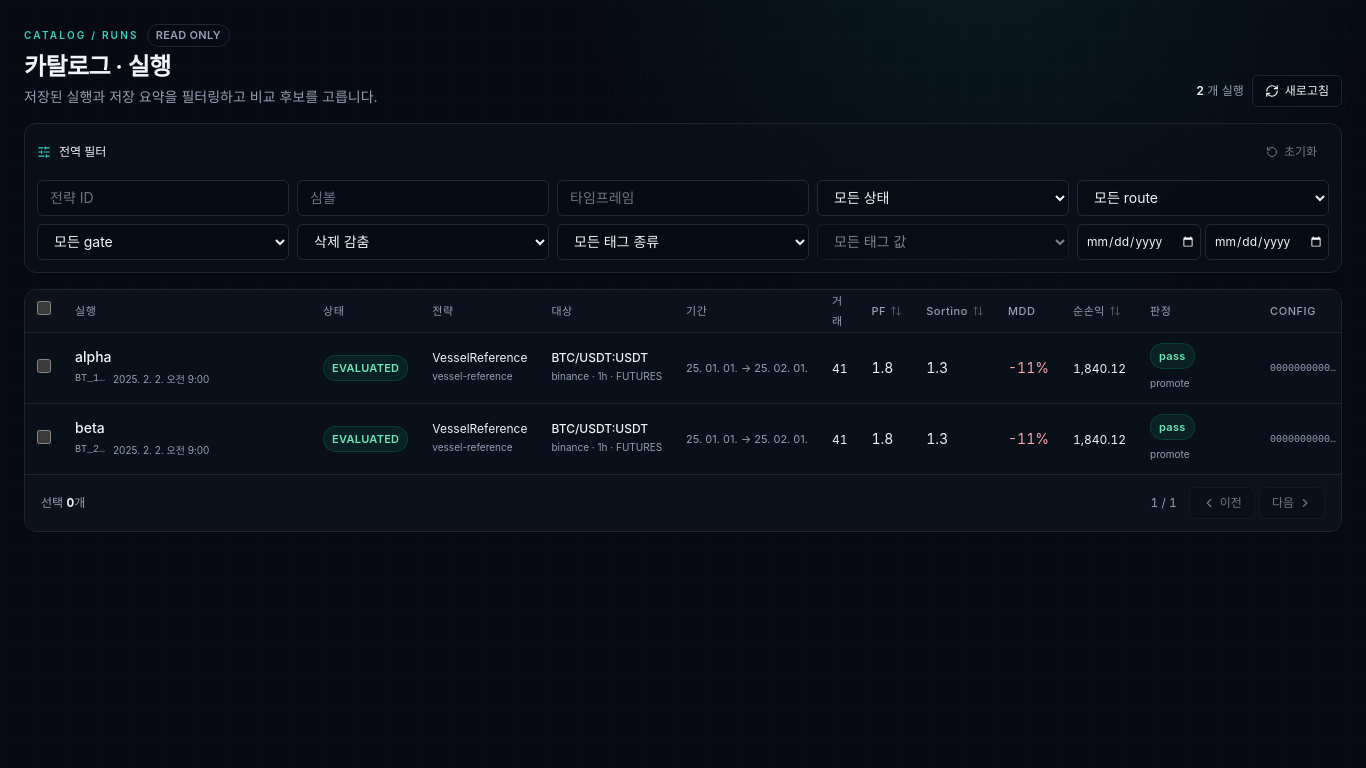
Test: 카탈로그 실행 완전 삭제 › 증거 파일까지 지운다고 알린 뒤 목록에서 영구히 없앤다
Expected: the text "alpha" is shown, [75,346,112,366]
Click the checkbox named "alpha 선택". click: coordinates (44, 366)
box: [37,358,51,372]
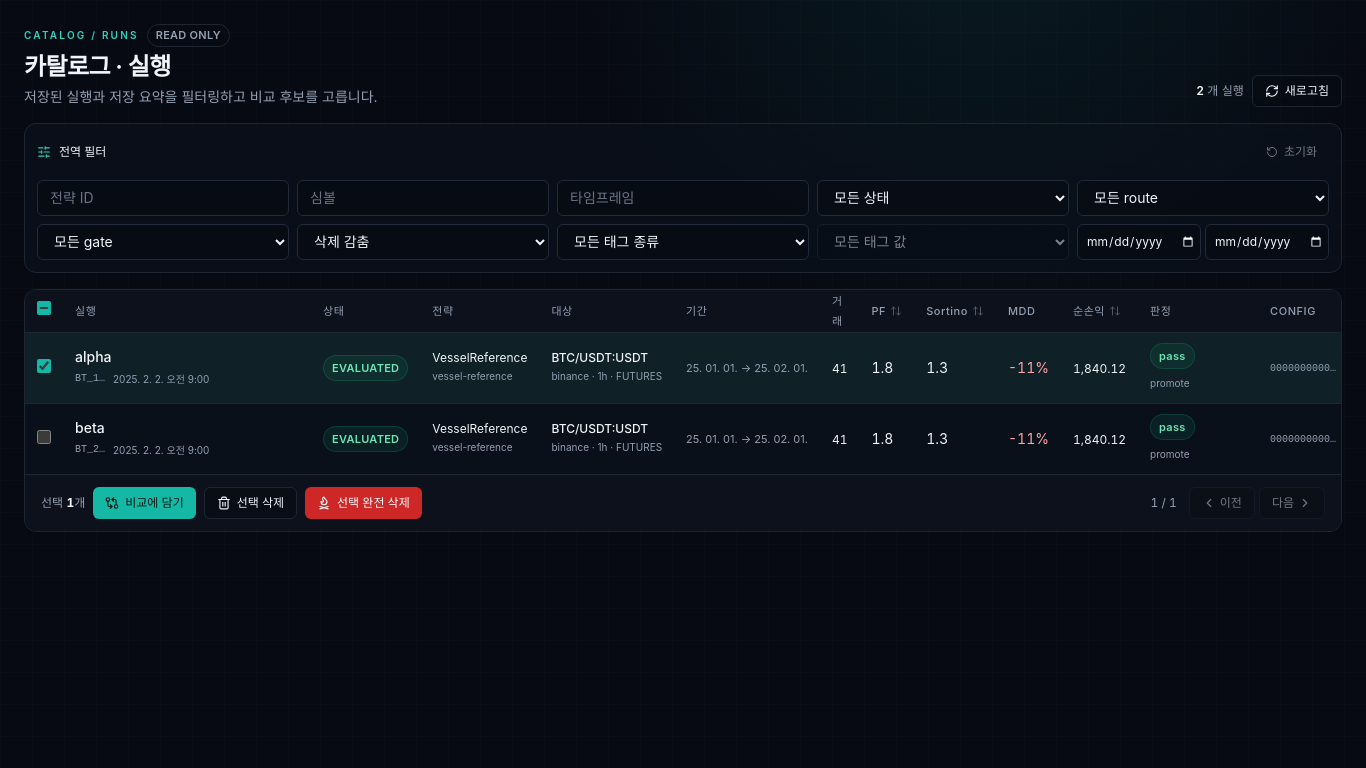
Click the button "선택 완전 삭제". click: coordinates (363, 502)
box: [305,486,422,518]
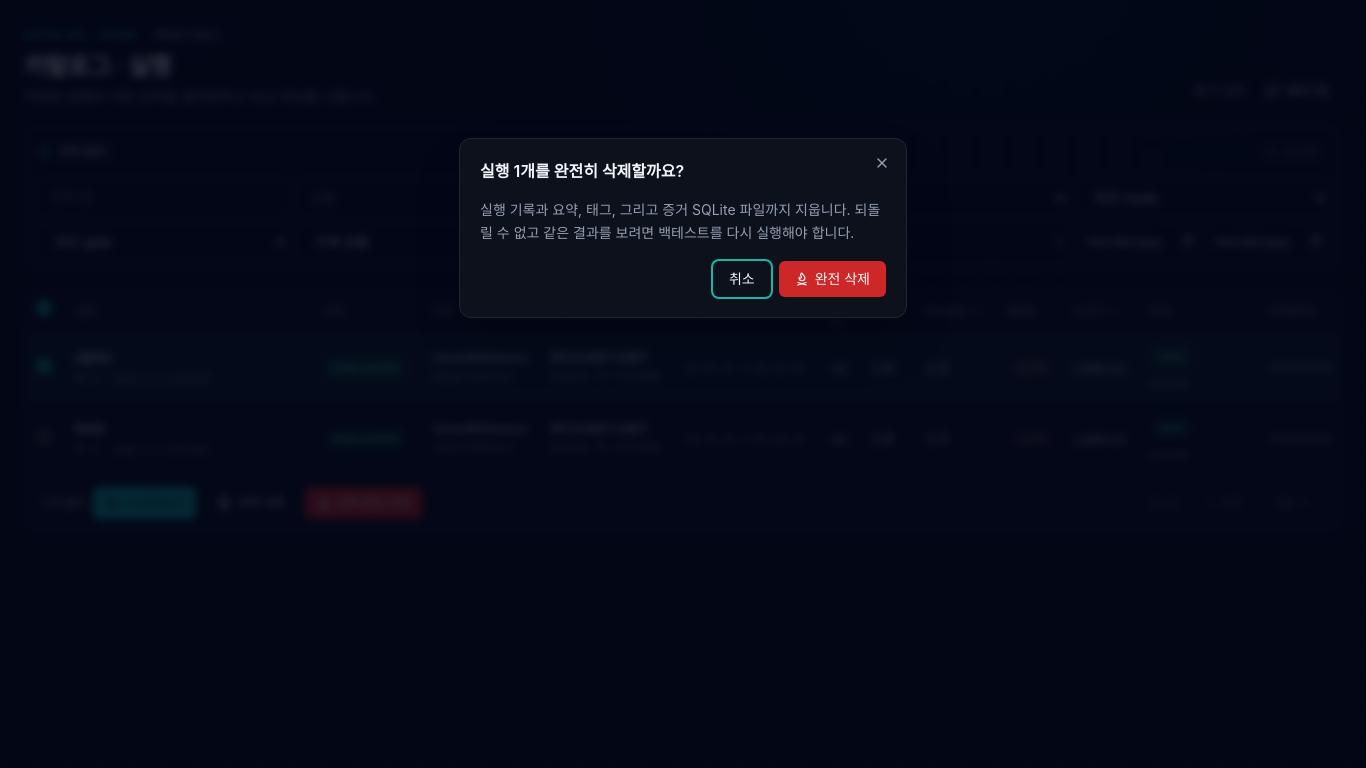
Expected: the heading "실행 1개를 완전히 삭제할까요?" is shown, [480,161,684,181]
Expected: the text "되돌릴 수 없고" is shown, [480,201,880,241]
Click the button "완전 삭제". click: coordinates (832, 279)
box: [779,261,886,297]
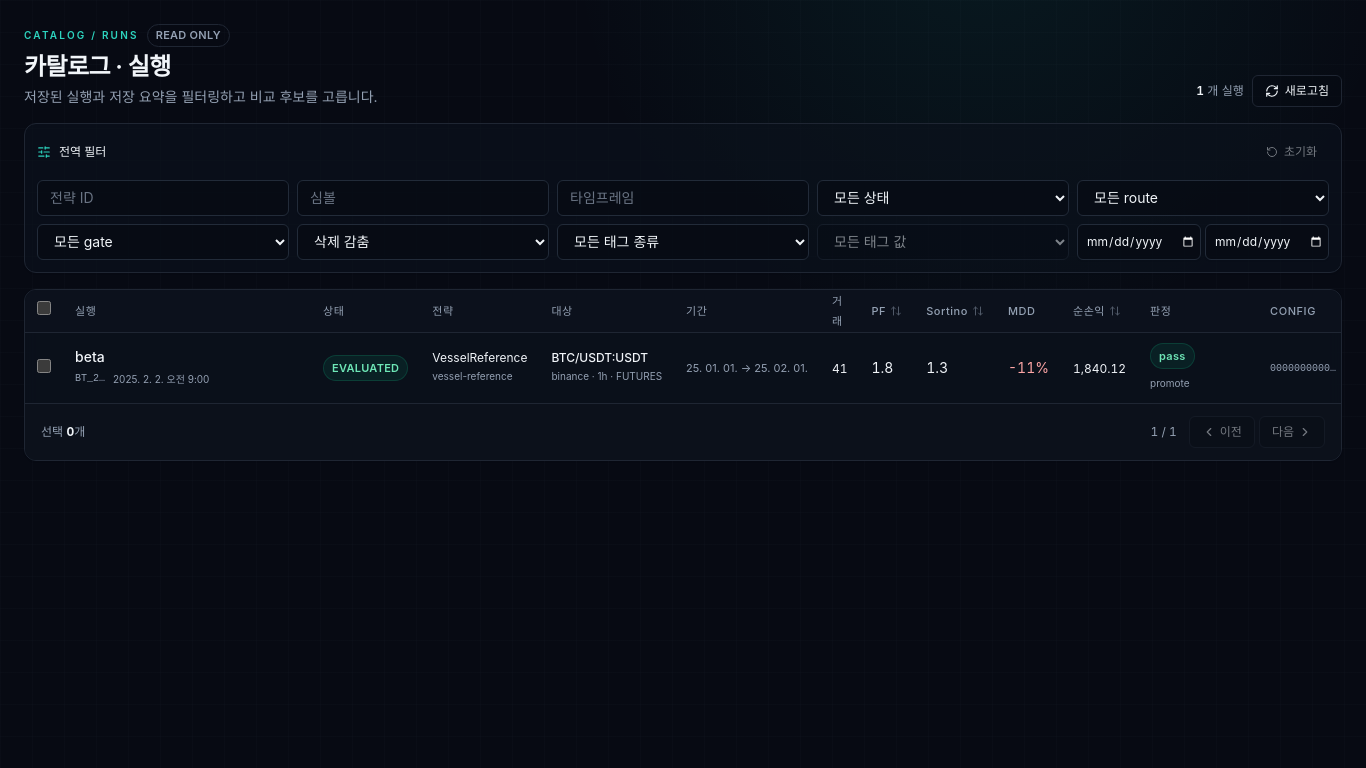
Expected: the text "beta" is shown, [75,346,105,366]
Expected: the text "alpha" is gone
